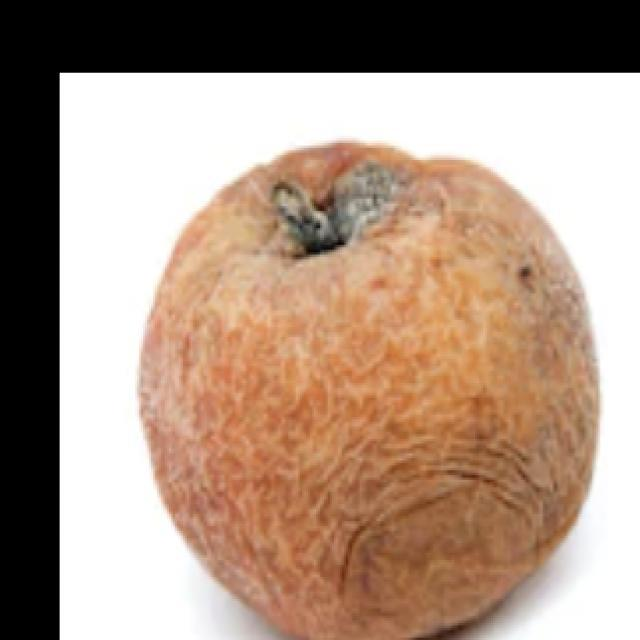Rotten: (159, 143, 606, 640)
